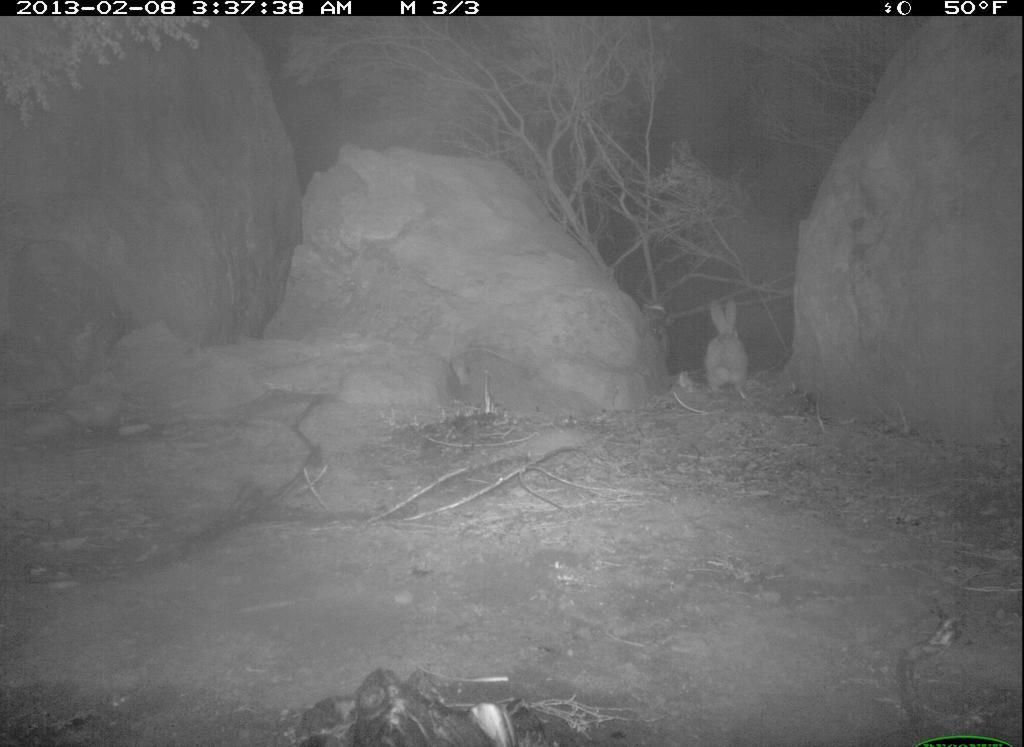rabbit: (687, 292, 761, 408)
